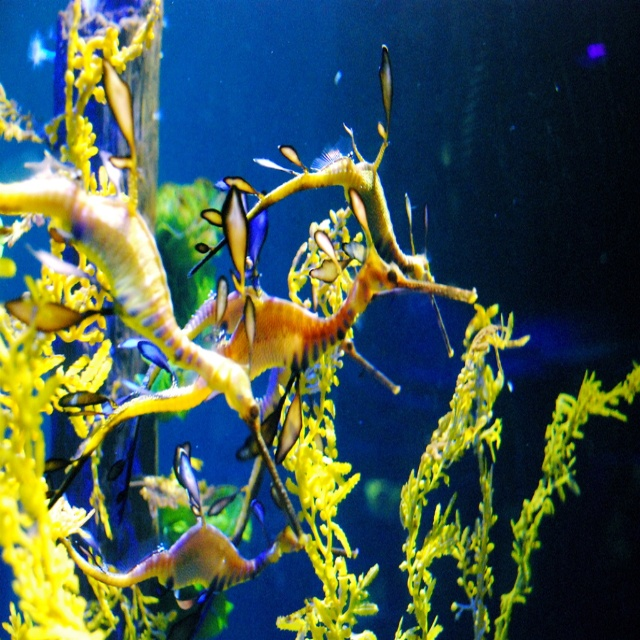Seahorse: (1, 40, 478, 591)
